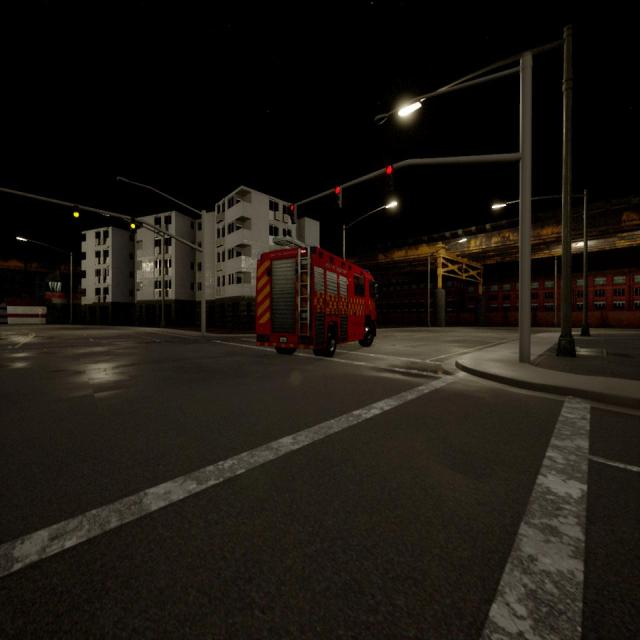Traffic_Signs: (38, 309, 41, 313)
Vehicle: (256, 246, 375, 356)
traffic_light: (335, 186, 341, 208), (290, 205, 296, 224), (386, 166, 392, 182), (73, 206, 79, 217), (130, 218, 136, 229)
